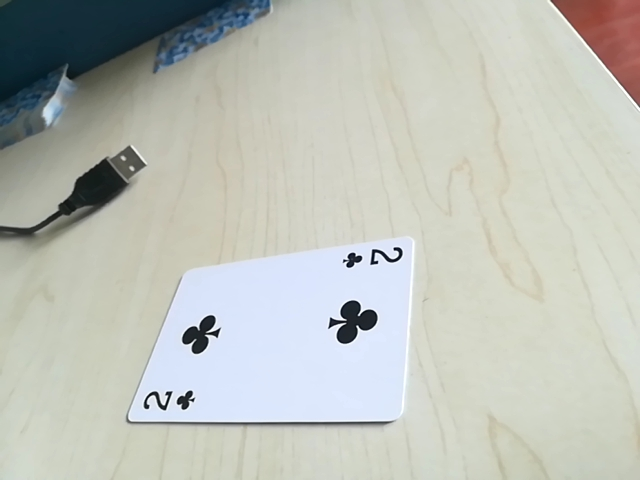mh 2: (340, 241, 407, 276), (135, 384, 201, 418)
